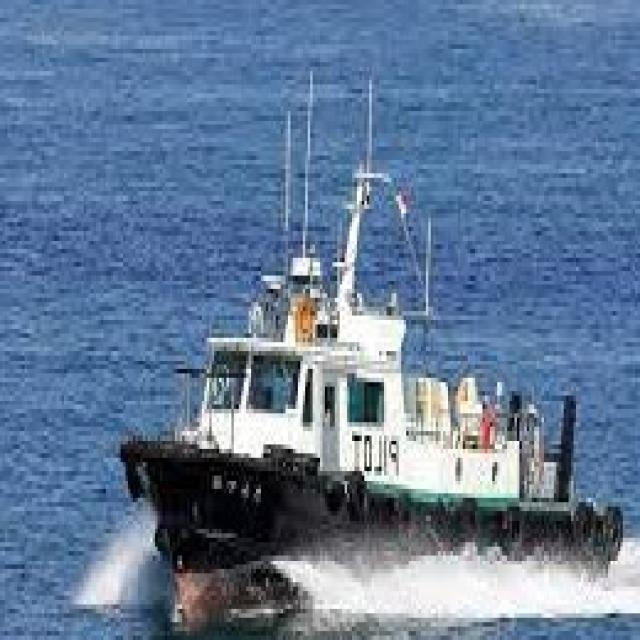houseboat: (123, 145, 630, 624)
